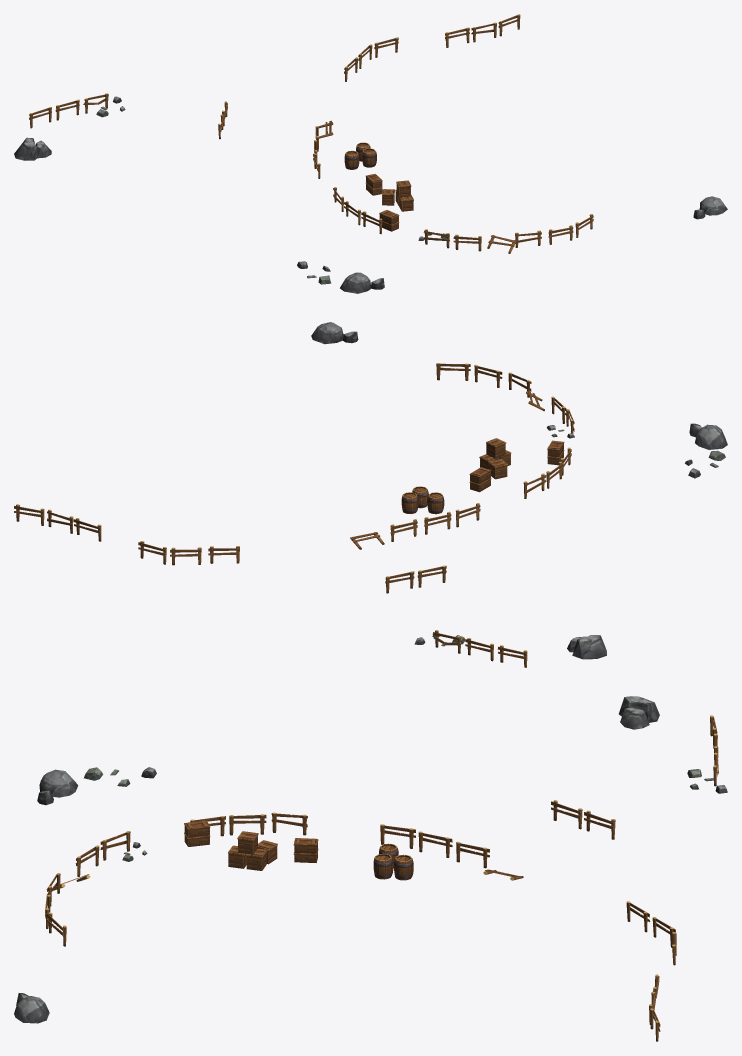
Rendered from wujian10_1.fbx.
3 renders of one model, top to bottom at view 1: azimuth 30°, elevation 25°; view 2: azimuth 150°, elevation 25°; view 3: azimuth 270°, elevation 25°, orthographic. The views are drawn at different scales.
Visible parts, largest first — view 1: wujian10_1; view 2: wujian10_1; view 3: wujian10_1.
Part boxes in pixels (left/top/right/bottom): wujian10_1: left=14, top=14, right=727, bottom=293; wujian10_1: left=14, top=322, right=727, bottom=667; wujian10_1: left=14, top=696, right=727, bottom=1041.
Bounding box in the file's own units: 4297 × 205 × 3871.
